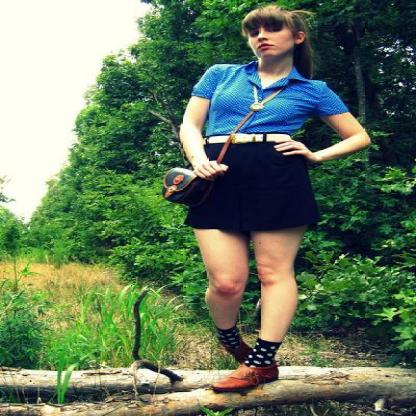bag: (164, 175, 211, 210)
shirt: (192, 56, 348, 142)
shoe: (212, 361, 284, 396)
skirt: (183, 132, 327, 240)
